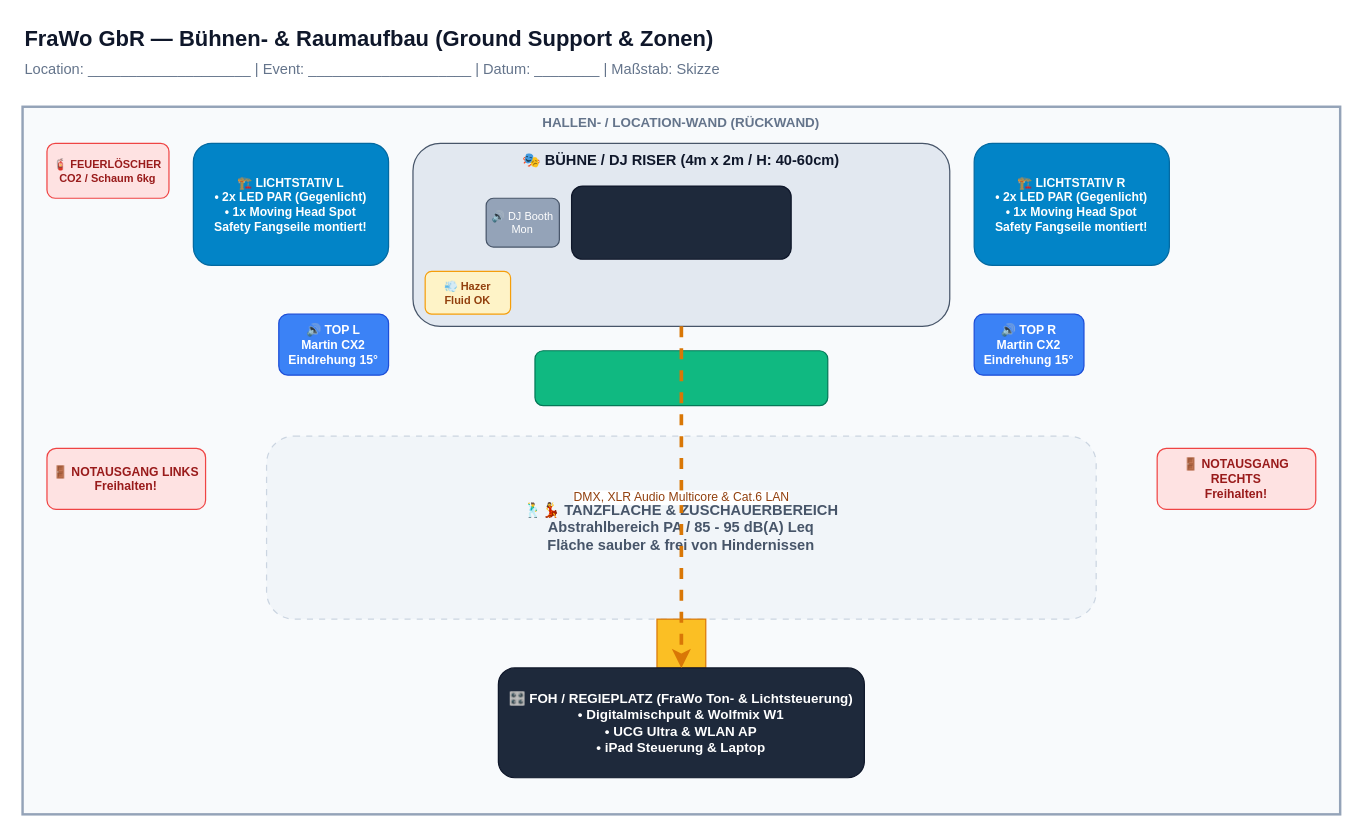
Some shapes in this 1362 by 836 pixel diagram are drawn without their labels. Each missing label, with the centre of its shape:
⚠️ DEFENDER KABELBRÜCKE (Multicore & CEE Strom): point (681, 643)
🎧 DJ TABLE & CONTROLLER Pioneer / Traktor Setup: point (680, 222)
🔊 SUBWOOFER CLUSTER (18" Bässe) Mono Summe / Cardioid Setup vor der Bühne: point (681, 378)
